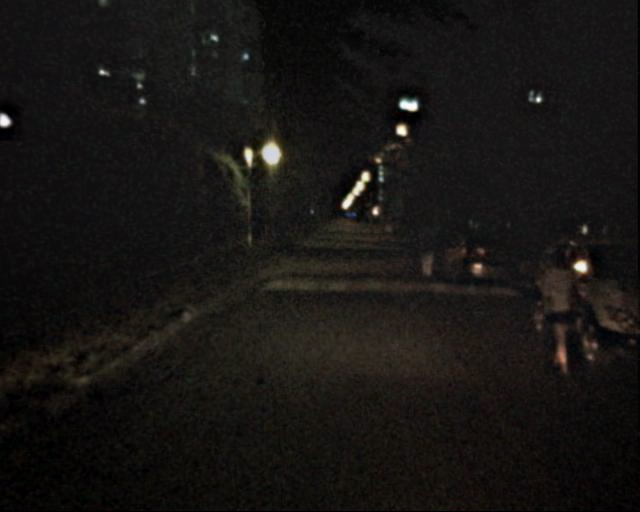person: (526, 242, 581, 375), (416, 221, 439, 276), (406, 228, 423, 270)
